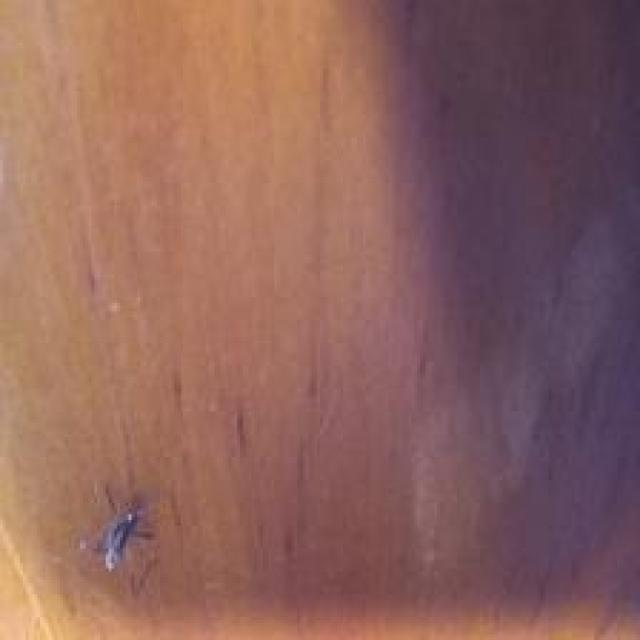Aedes albopictus: (77, 483, 160, 597)
